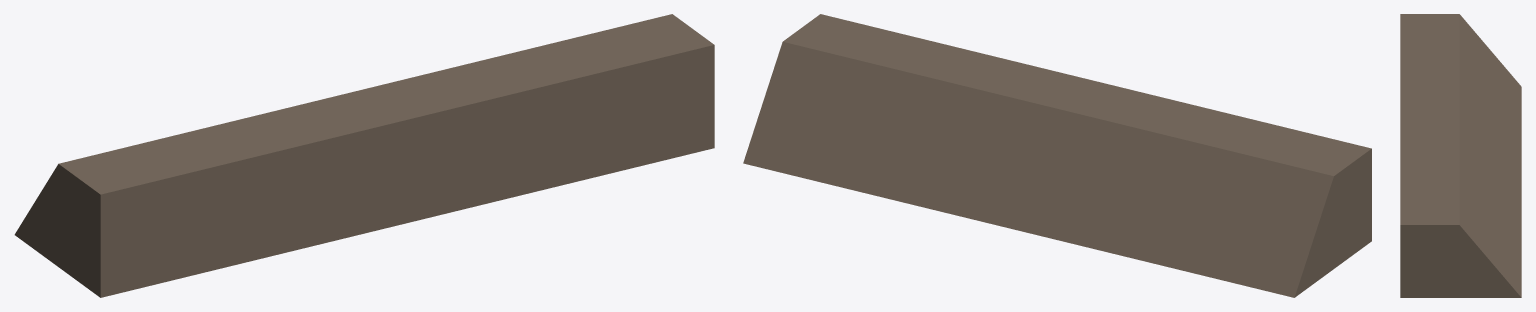
The model's file is mdl_nameplate.fbx.
3 views of the same model, side by side, from view 1: azimuth 30°, elevation 25°; view 2: azimuth 150°, elevation 25°; view 3: azimuth 270°, elevation 25° (orthographic). The views are drawn at different scales.
Visible parts, largest first — view 1: mdl_nameplate; view 2: mdl_nameplate; view 3: mdl_nameplate.
Part boxes in pixels (<box>): mdl_nameplate: <box>14,14,714,297</box>; mdl_nameplate: <box>743,14,1371,297</box>; mdl_nameplate: <box>1400,14,1521,297</box>.
Bounding box in the file's own units: 18.21 × 2.93 × 4.43.
